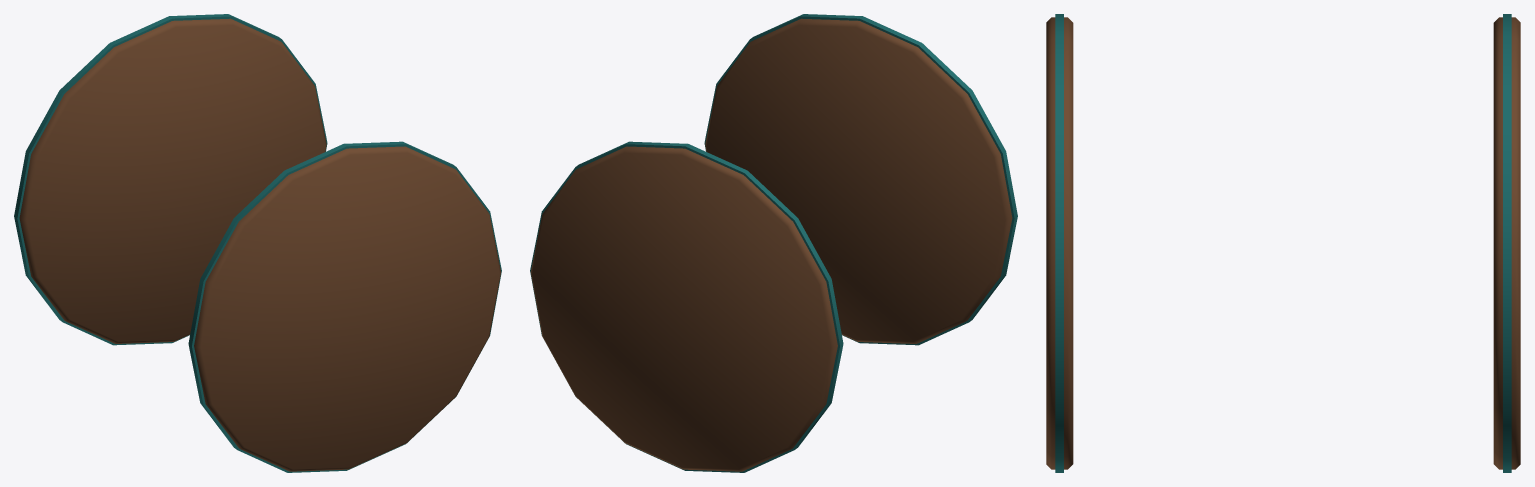
File: k5_discs.obj
The picture shows the model from 3 angles, left to right: view 1: azimuth 30°, elevation 25°; view 2: azimuth 150°, elevation 25°; view 3: azimuth 270°, elevation 25°; orthographic projection. The views are drawn at different scales.
Parts seen in each view (by area): view 1: k5_discs; view 2: k5_discs; view 3: k5_discs.
Boxes of the visible parts, <box> form: k5_discs: <box>14,14,501,472</box>; k5_discs: <box>530,14,1017,472</box>; k5_discs: <box>1046,14,1520,472</box>.
Size of the model in its own units: 2.15 by 2.15 by 2.22.
